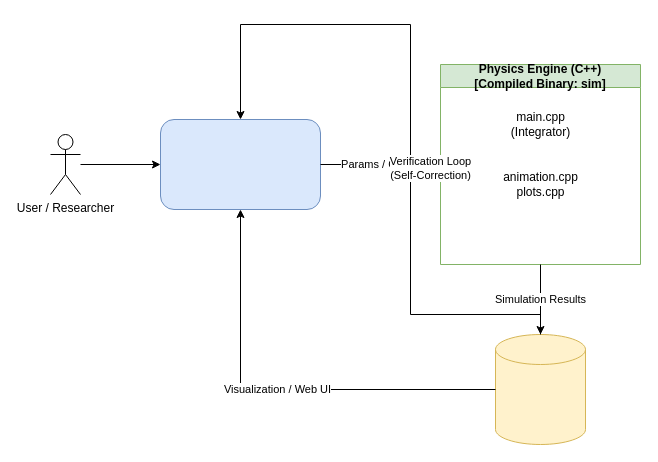
This 658x462 diagram has some shape labels left out. Here are the shapes that lost their labels. From the top down, the centre of each, then its label:
At point (240, 164): "Agentic Controller (cli_agent.py / app.py)".
At point (540, 389): "Data Artifacts (.csv / .mp4 / .png)".
